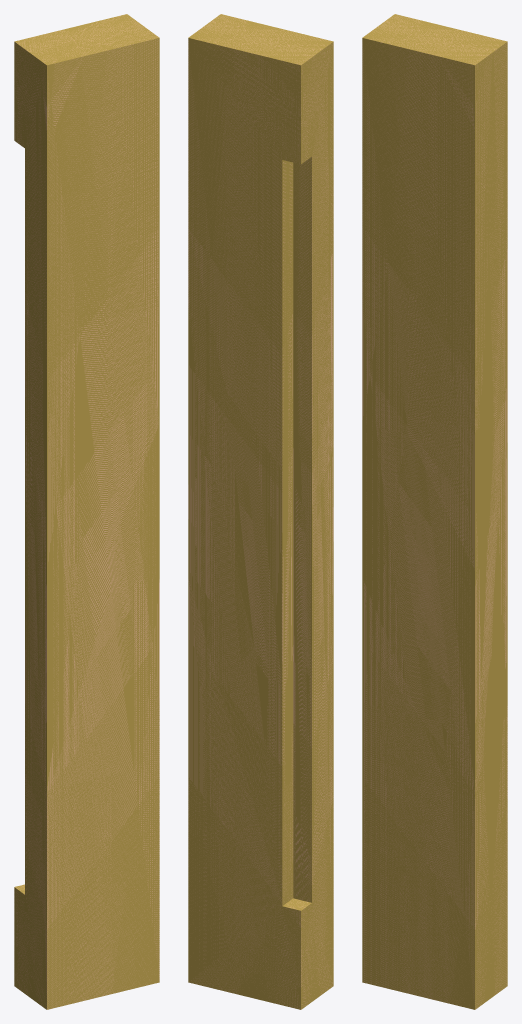
The model's file is original-55.obj.
3 renders of one model, left to right at view 1: azimuth 30°, elevation 25°; view 2: azimuth 150°, elevation 25°; view 3: azimuth 330°, elevation 25°, orthographic.
Parts seen in each view (by area): view 1: _1x2_7/Door_Sides1/mesh111/mesh111-geometry#mesh111-geometry; view 2: _1x2_7/Door_Sides1/mesh111/mesh111-geometry#mesh111-geometry; view 3: _1x2_7/Door_Sides1/mesh111/mesh111-geometry#mesh111-geometry.
Boxes of the visible parts, bbox=[...] form: _1x2_7/Door_Sides1/mesh111/mesh111-geometry#mesh111-geometry: bbox=[14, 14, 159, 1009]; _1x2_7/Door_Sides1/mesh111/mesh111-geometry#mesh111-geometry: bbox=[188, 14, 333, 1009]; _1x2_7/Door_Sides1/mesh111/mesh111-geometry#mesh111-geometry: bbox=[362, 14, 507, 1009].
Size of the model in its own units: 0.0499 by 0.399 by 0.0249.
